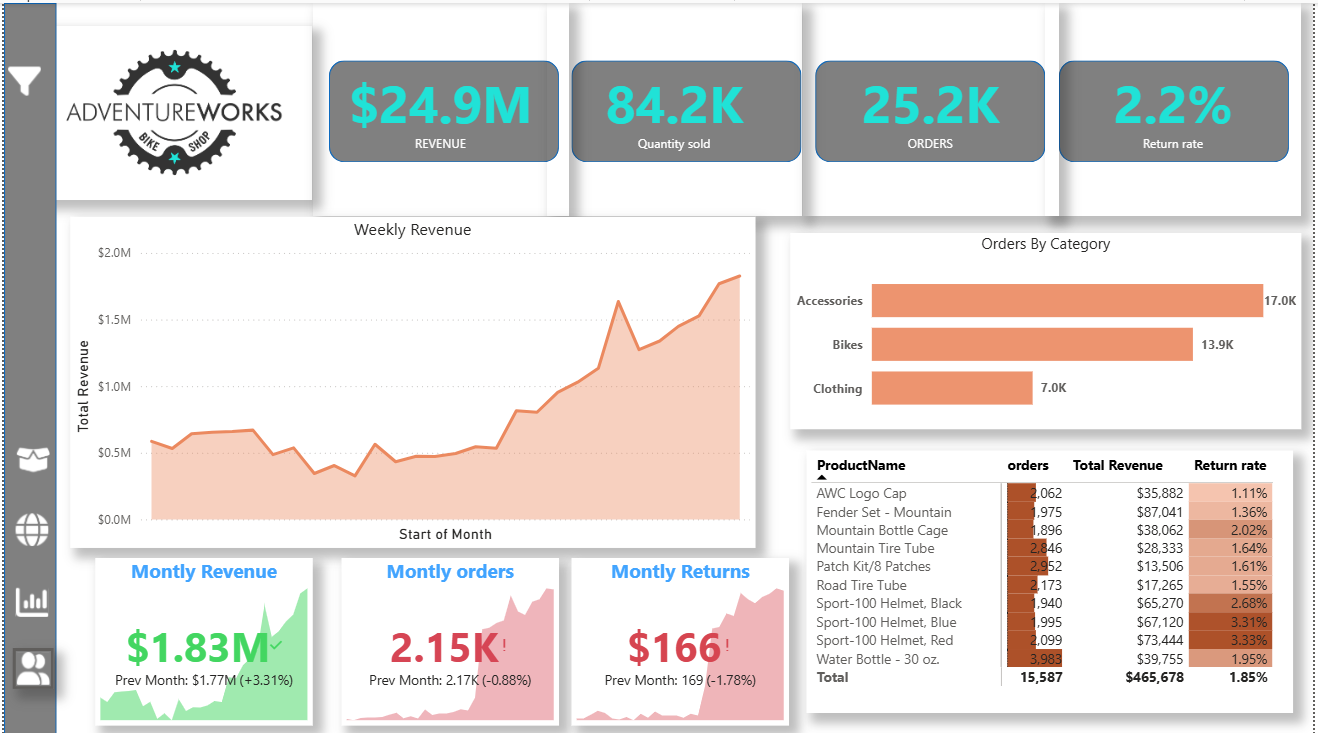

This screenshot's page, from the dashboard's own definition file:
{"tool":"powerbi","page":{"name":"Exec DashBoard","canvas":[1280,720],"ordinal":0},"visuals":[{"type":"card","fields":{"Values":["Measure Table.Quantity sold"]},"box":[530.5,0,250.3,209.1],"z":0,"group":"g1"},{"type":"image","box":[33.2,21.6,268.4,170.2],"z":0},{"type":"actionButton","box":[7.3,566.2,40.4,40.4],"z":0,"group":"g2"},{"type":"card","fields":{"Values":["Measure Table.total orders"]},"box":[780.8,0,250.3,209.1],"z":1000,"group":"g1"},{"type":"shape","box":[317.4,56.3,225.1,99.6],"z":1000},{"type":"actionButton","box":[8.5,631,40.4,40.4],"z":1000,"group":"g2"},{"type":"card","fields":{"Values":["Measure Table.Total Revenue"]},"box":[301.5,0,250.3,209.1],"z":2000,"group":"g1"},{"type":"shape","box":[555.5,56.3,225.1,99.6],"z":2000},{"type":"actionButton","box":[7.3,495.3,40.4,40.4],"z":2000,"group":"g2"},{"type":"card","fields":{"Values":["Measure Table.Return rate"]},"box":[1018.3,0,250.3,209.1],"z":3000,"group":"g1"},{"type":"shape","box":[793.5,56.3,225.1,99.6],"z":3000},{"type":"actionButton","box":[8.5,426.8,40.4,40.4],"z":3000,"group":"g2"},{"type":"shape","box":[1031.6,56.3,225.1,99.6],"z":4000},{"type":"shape","box":[0,0,51.4,720.2],"z":5000},{"type":"group","id":"g1","title":"KPI cards","box":[301.5,0,967.1,209.1],"z":6000},{"type":"lineChart","title":"Weekly Revenue","fields":{"Y":["Measure Table.Total Revenue"],"Category":["Calendar Lookup.Start of Month"]},"box":[64.8,209.1,670.1,324.1],"z":7000},{"type":"kpi","title":"Montly Revenue","fields":{"Indicator":["Measure Table.Total Revenue"],"TrendLine":["Calendar Lookup.Start of Month"],"Goal":["Measure Table.Previous month Revenue"]},"box":[89.3,542.9,212.8,163.9],"z":8000},{"type":"kpi","title":"Montly orders","fields":{"TrendLine":["Calendar Lookup.Start of Month"],"Indicator":["Measure Table.total orders"],"Goal":["Measure Table.Previous month orders"]},"box":[330.2,542.9,212.8,163.9],"z":9000},{"type":"kpi","title":"Montly Returns","fields":{"TrendLine":["Calendar Lookup.Start of Month"],"Indicator":["Measure Table.Total Returns"],"Goal":["Measure Table.Previous month returns"]},"box":[555.2,542.9,212.8,163.9],"z":10000},{"type":"clusteredBarChart","title":"Orders By Category","fields":{"Category":["Product Categories Lookup.CategoryName"],"Y":["Measure Table.total orders"]},"box":[769.2,225,500.1,192],"z":11000},{"type":"pivotTable","fields":{"Rows":["Product Categories Lookup.CategoryName","Product Lookup.ProductName"],"Values":["Measure Table.total orders","Measure Table.Total Revenue","Measure Table.Return rate"]},"box":[785.1,437.8,475.7,256.8],"z":12000},{"type":"group","id":"g2","title":"Nav","box":[7.3,426.8,41.6,244.6],"z":13000},{"type":"actionButton","box":[0,56.3,51.4,40.4],"z":14000}]}

Visuals, with their boxes on the page's 1280x720 design canvas (x1, y1, x2, y2). These are canvas units, not pixel positions in the 1318x733 screenshot, which may show the page scaled, cropped or inside an application window:
card - Measure Table.Quantity sold: pyautogui.locateOnScreen(530, 0, 781, 209)
image: pyautogui.locateOnScreen(33, 22, 302, 192)
actionButton: pyautogui.locateOnScreen(7, 566, 48, 607)
card - Measure Table.total orders: pyautogui.locateOnScreen(781, 0, 1031, 209)
shape: pyautogui.locateOnScreen(317, 56, 542, 156)
actionButton: pyautogui.locateOnScreen(8, 631, 49, 671)
card - Measure Table.Total Revenue: pyautogui.locateOnScreen(302, 0, 552, 209)
shape: pyautogui.locateOnScreen(556, 56, 781, 156)
actionButton: pyautogui.locateOnScreen(7, 495, 48, 536)
card - Measure Table.Return rate: pyautogui.locateOnScreen(1018, 0, 1269, 209)
shape: pyautogui.locateOnScreen(794, 56, 1019, 156)
actionButton: pyautogui.locateOnScreen(8, 427, 49, 467)
shape: pyautogui.locateOnScreen(1032, 56, 1257, 156)
shape: pyautogui.locateOnScreen(0, 0, 51, 720)
"KPI cards" group: pyautogui.locateOnScreen(302, 0, 1269, 209)
"Weekly Revenue" lineChart: pyautogui.locateOnScreen(65, 209, 735, 533)
"Montly Revenue" kpi: pyautogui.locateOnScreen(89, 543, 302, 707)
"Montly orders" kpi: pyautogui.locateOnScreen(330, 543, 543, 707)
"Montly Returns" kpi: pyautogui.locateOnScreen(555, 543, 768, 707)
"Orders By Category" clusteredBarChart: pyautogui.locateOnScreen(769, 225, 1269, 417)
pivotTable - Product Categories Lookup.CategoryName x Product Lookup.ProductName: pyautogui.locateOnScreen(785, 438, 1261, 695)
"Nav" group: pyautogui.locateOnScreen(7, 427, 49, 671)
actionButton: pyautogui.locateOnScreen(0, 56, 51, 97)
